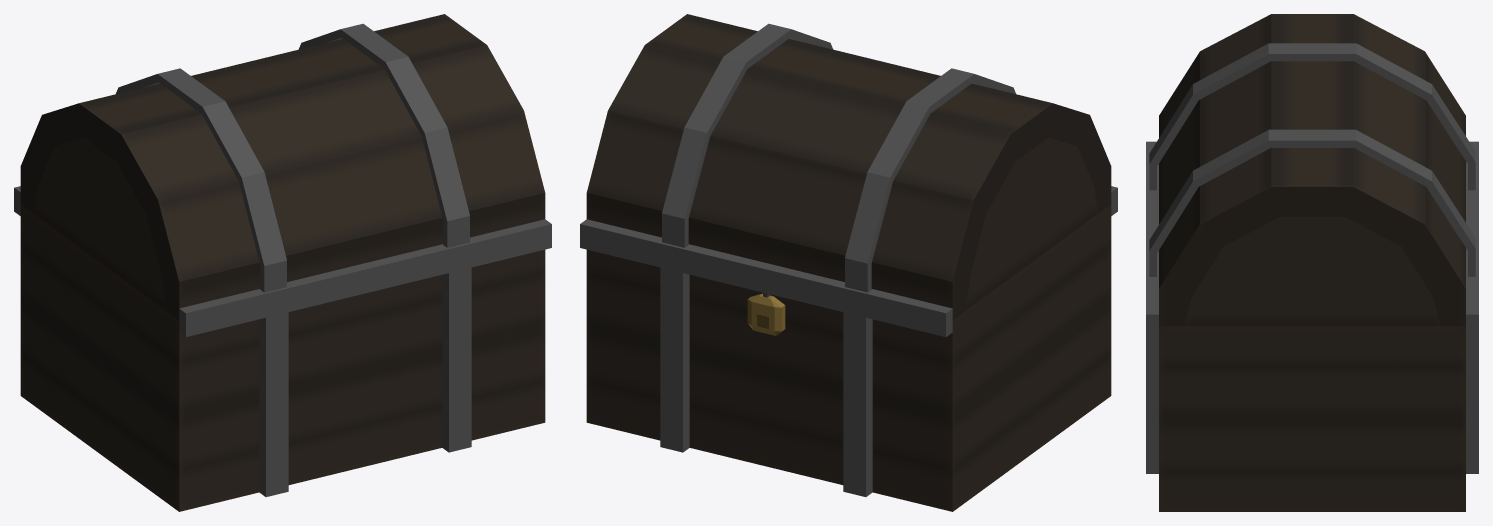
Rendered from Chest.fbx.
3 renders of one model, left to right at view 1: azimuth 30°, elevation 25°; view 2: azimuth 150°, elevation 25°; view 3: azimuth 270°, elevation 25°, orthographic. The views are drawn at different scales.
Visible parts, largest first — view 1: cuboid, tube, cuboid_1, tube_1, circle; view 2: cuboid, tube, cuboid_1, tube_1, circle, cuboid_2; view 3: cuboid, tube, circle, tube_1, cuboid_1.
Part boxes in pixels (box(x1,y1,x2,y2)): cuboid: box(20, 205, 545, 511); tube: box(20, 14, 545, 319); cuboid_1: box(14, 186, 551, 496); tube_1: box(116, 23, 469, 292); circle: box(34, 137, 165, 310); cuboid: box(586, 205, 1111, 511); tube: box(586, 14, 1111, 319); cuboid_1: box(580, 186, 1117, 496); tube_1: box(662, 23, 1015, 292); circle: box(966, 137, 1097, 310); cuboid_2: box(747, 292, 785, 335); cuboid: box(1159, 326, 1465, 511); tube: box(1159, 14, 1465, 326); circle: box(1184, 217, 1440, 326); tube_1: box(1149, 43, 1475, 276); cuboid_1: box(1146, 141, 1478, 473).
Bounding box in the file's own units: 25 × 22.46 × 20.31.
Materials: 4 (4 with a texture image).
